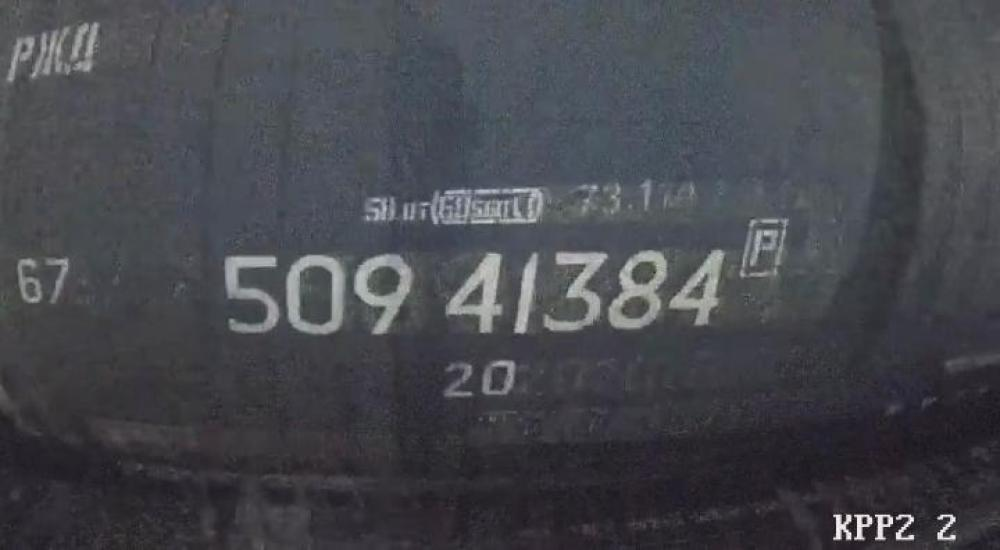Wagon-number: (216, 245, 728, 343)
